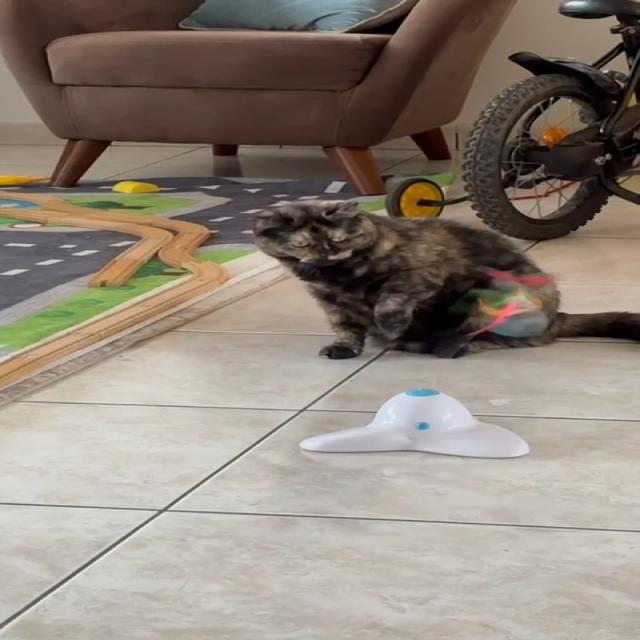authorized: (249, 198, 639, 360)
